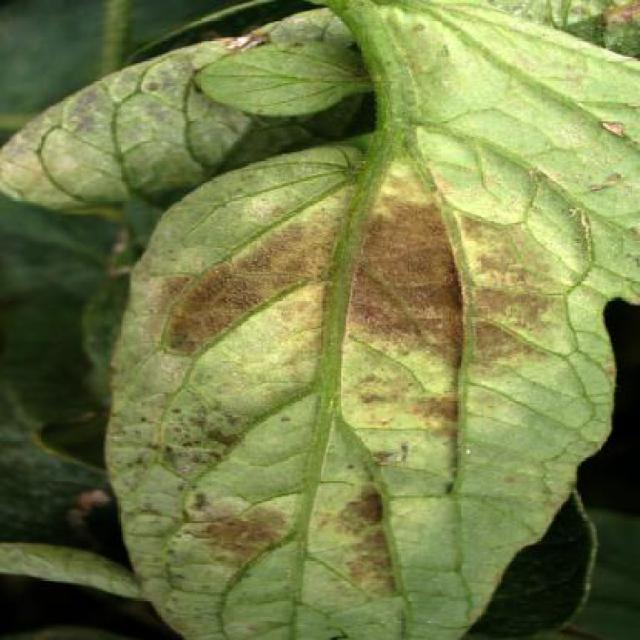Tomato mold leaf: (73, 19, 624, 638), (0, 18, 326, 235)
